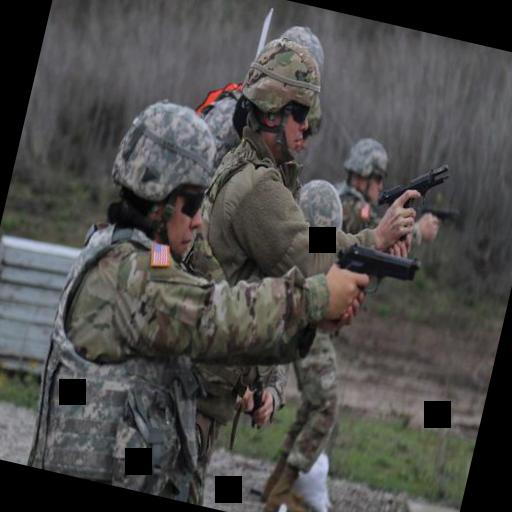Handgun: (368, 143, 452, 249), (325, 233, 424, 310)
